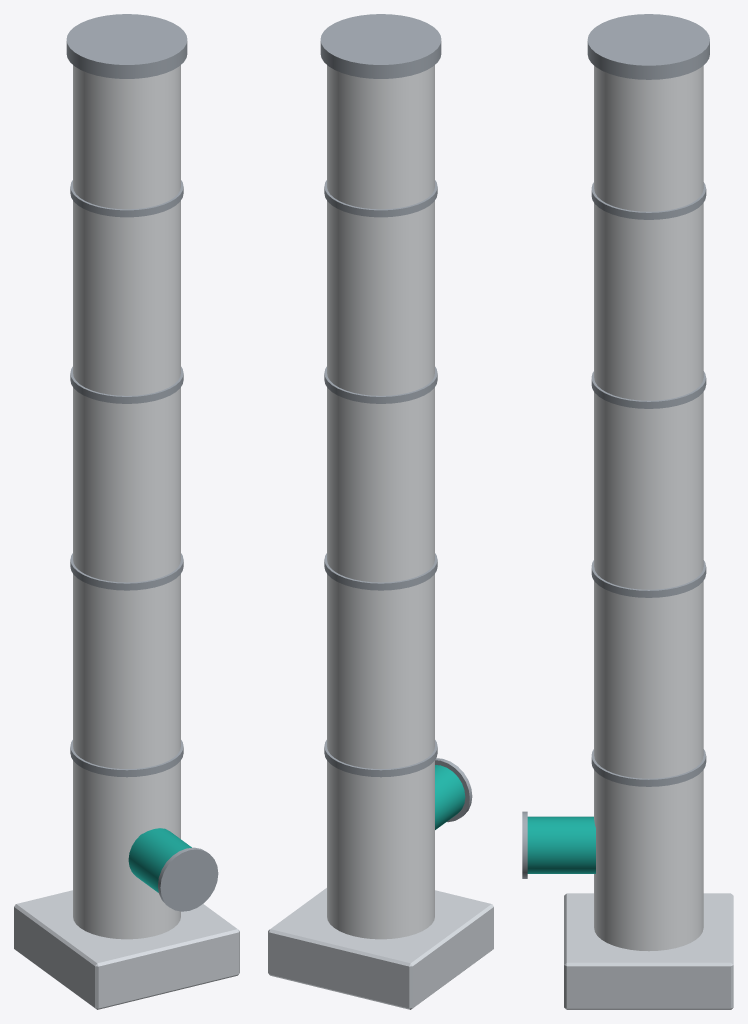
The model's file is exhaust-stack.glb.
3 renders of one model, left to right at view 1: azimuth 30°, elevation 25°; view 2: azimuth 150°, elevation 25°; view 3: azimuth 270°, elevation 25°, orthographic.
Visible parts, largest first — view 1: exhaust-stack; view 2: exhaust-stack; view 3: exhaust-stack.
Boxes of the visible parts, x1,y1,x2,y2 form: exhaust-stack: (14,14,239,1009); exhaust-stack: (268,14,493,1009); exhaust-stack: (522,14,733,1009).
Bounding box in the file's own units: 1.3 × 7.92 × 1.62.
